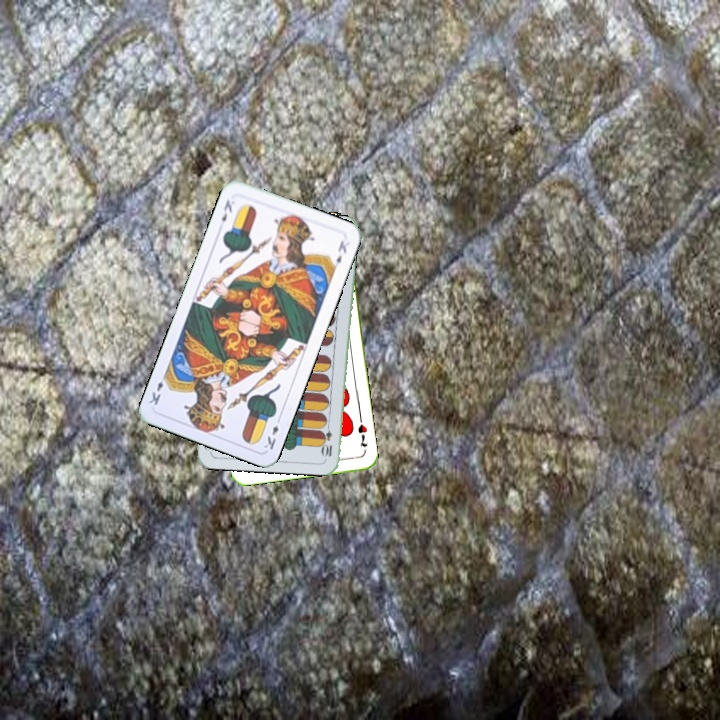E10: (320, 419, 335, 459)
EK: (260, 413, 284, 452), (217, 195, 235, 224)
H7: (354, 420, 370, 449)
